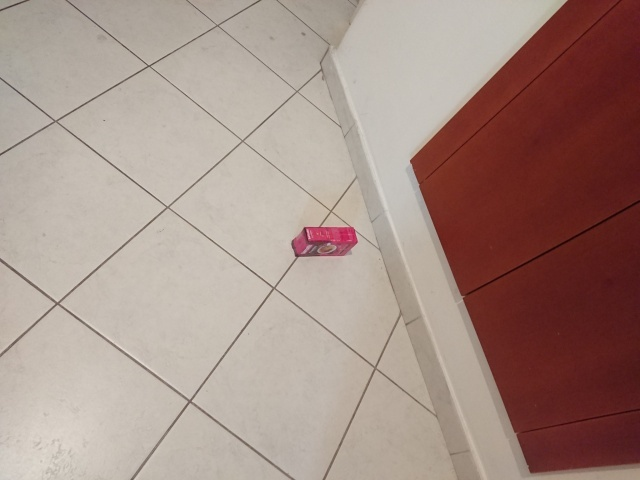Barcaffe Classic Original 225g: (290, 225, 359, 259)
